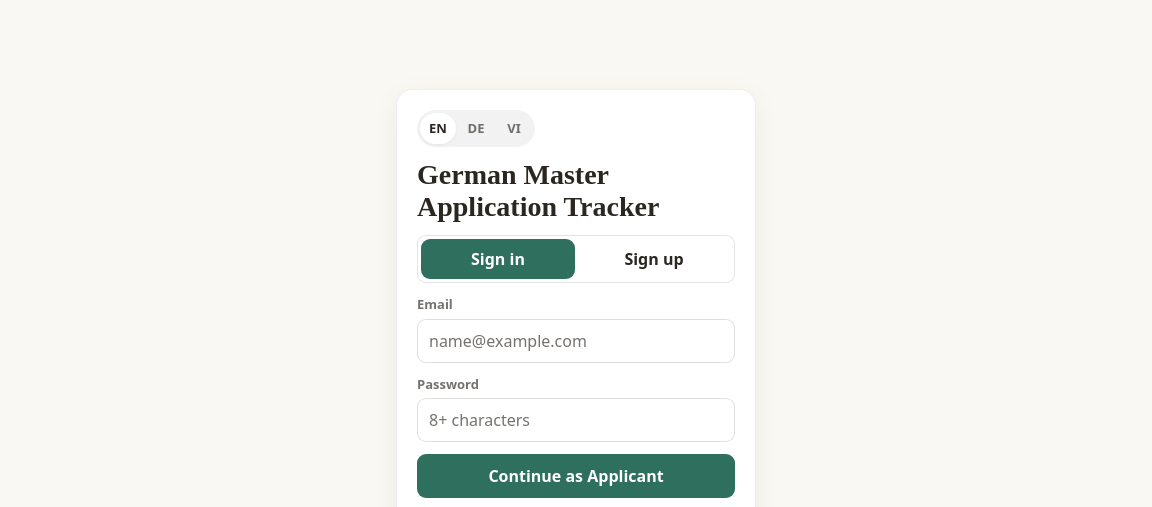
persists quick start dismissal locally
Step 1. Type "applicant@example.com" into the field labelled "Email" → [576, 341], box [417,319,735,363]
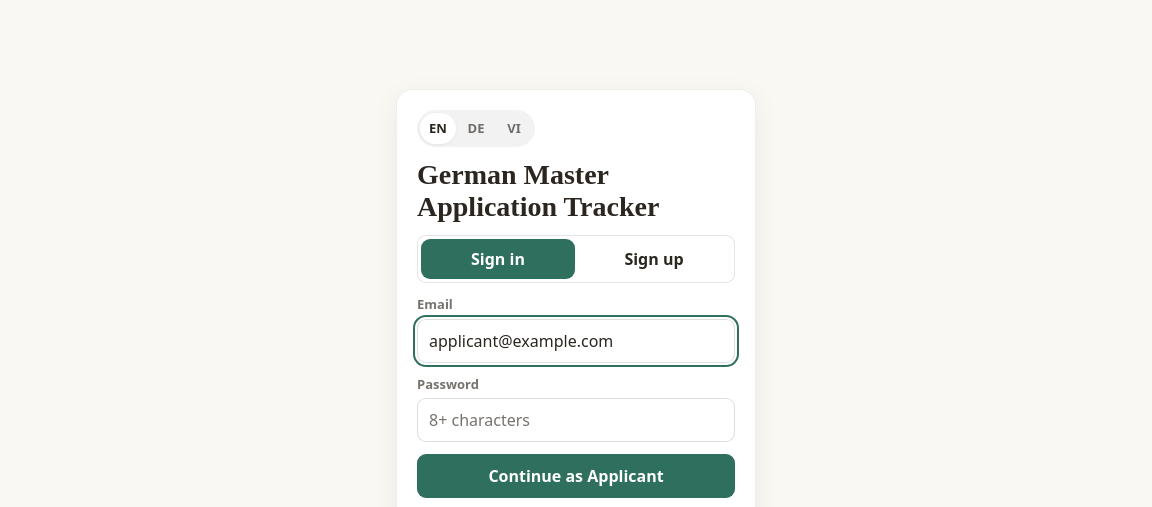
Step 2. Type "application-2026" into the password field with placeholder "8+ characters" → [576, 420], box [417,398,735,442]
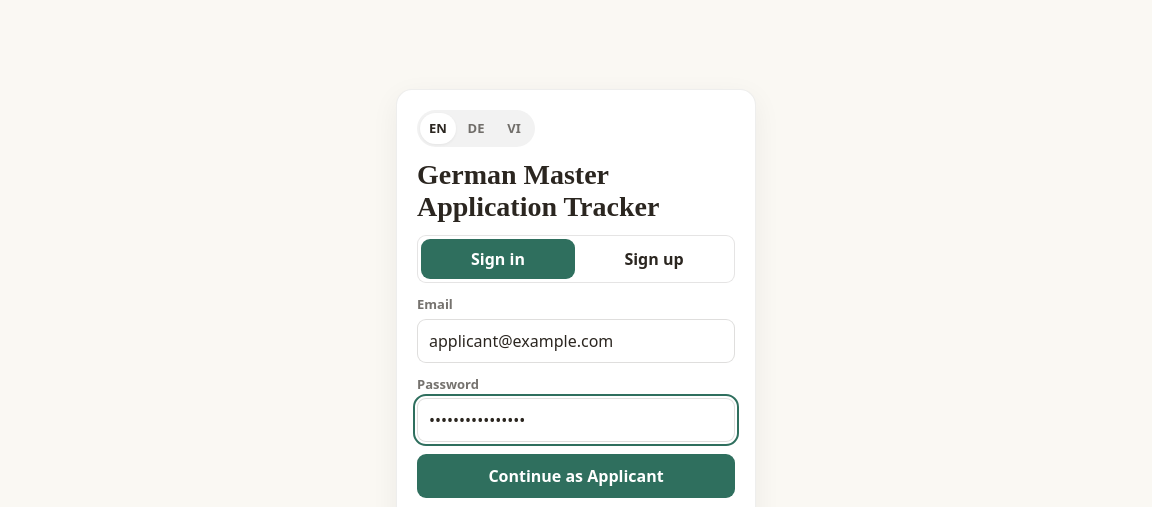
Step 3. Click the button "Continue as Applicant" → [576, 476], box [417,454,735,498]
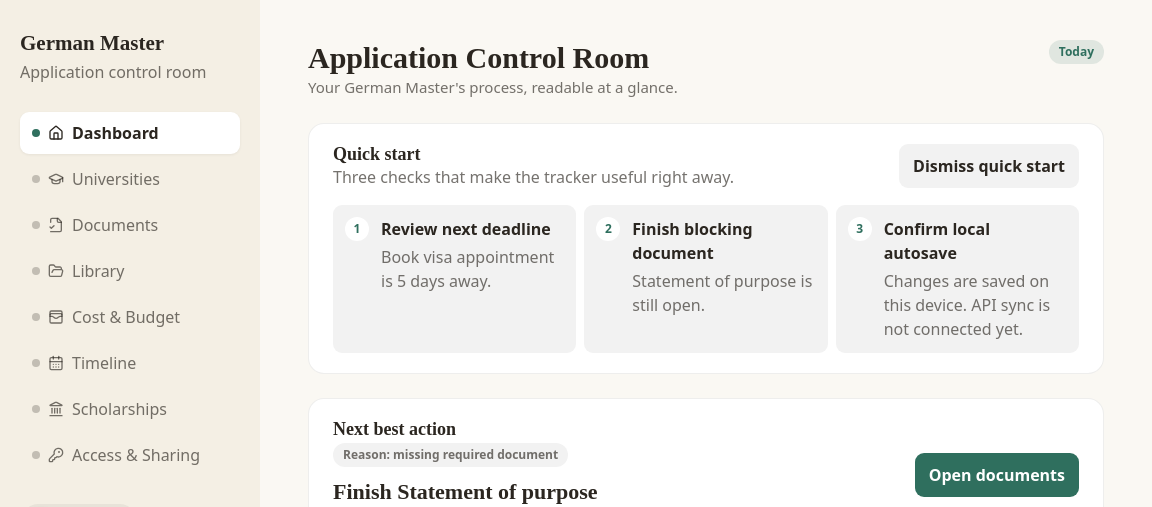
Result: the heading "Quick start" is shown at [333,144,420,164]
Step 4. Click the button "Dismiss quick start" → [989, 166], box [899,144,1079,188]
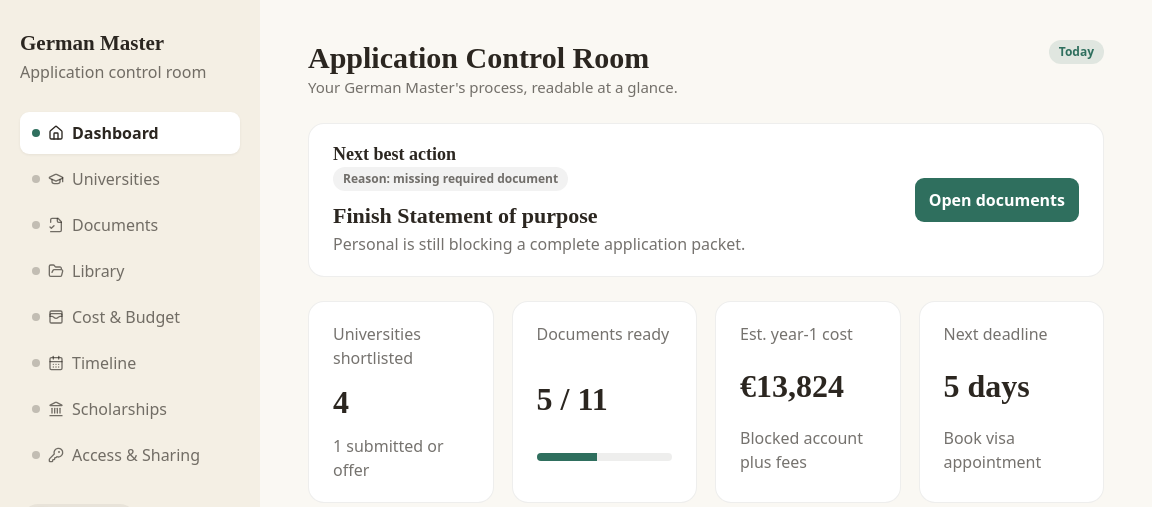
Result: the heading "Quick start" is gone
